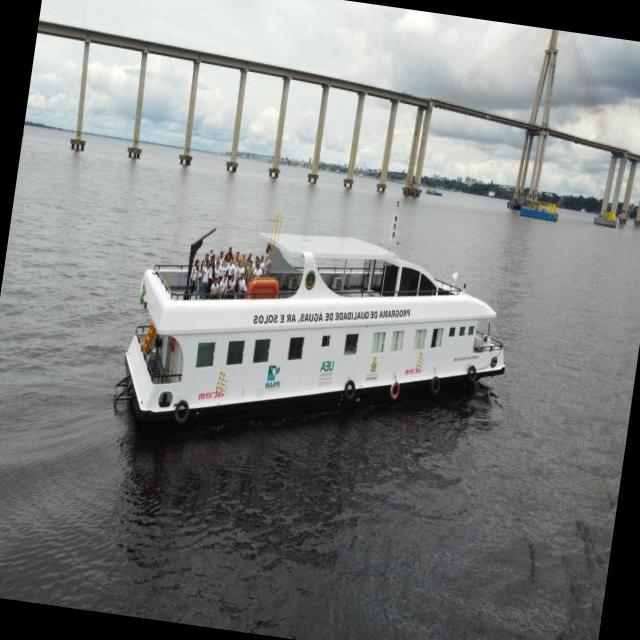Passenger: (115, 217, 505, 423)
